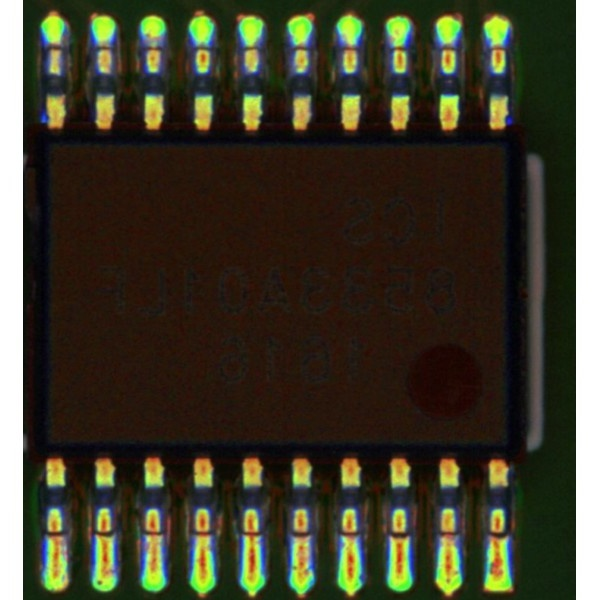Bad_podu: (48, 528, 63, 556), (294, 528, 309, 553), (148, 527, 161, 555), (441, 526, 457, 547), (98, 527, 112, 551), (393, 528, 407, 551), (341, 525, 357, 545), (489, 527, 504, 548), (242, 527, 260, 543), (194, 527, 211, 542)
